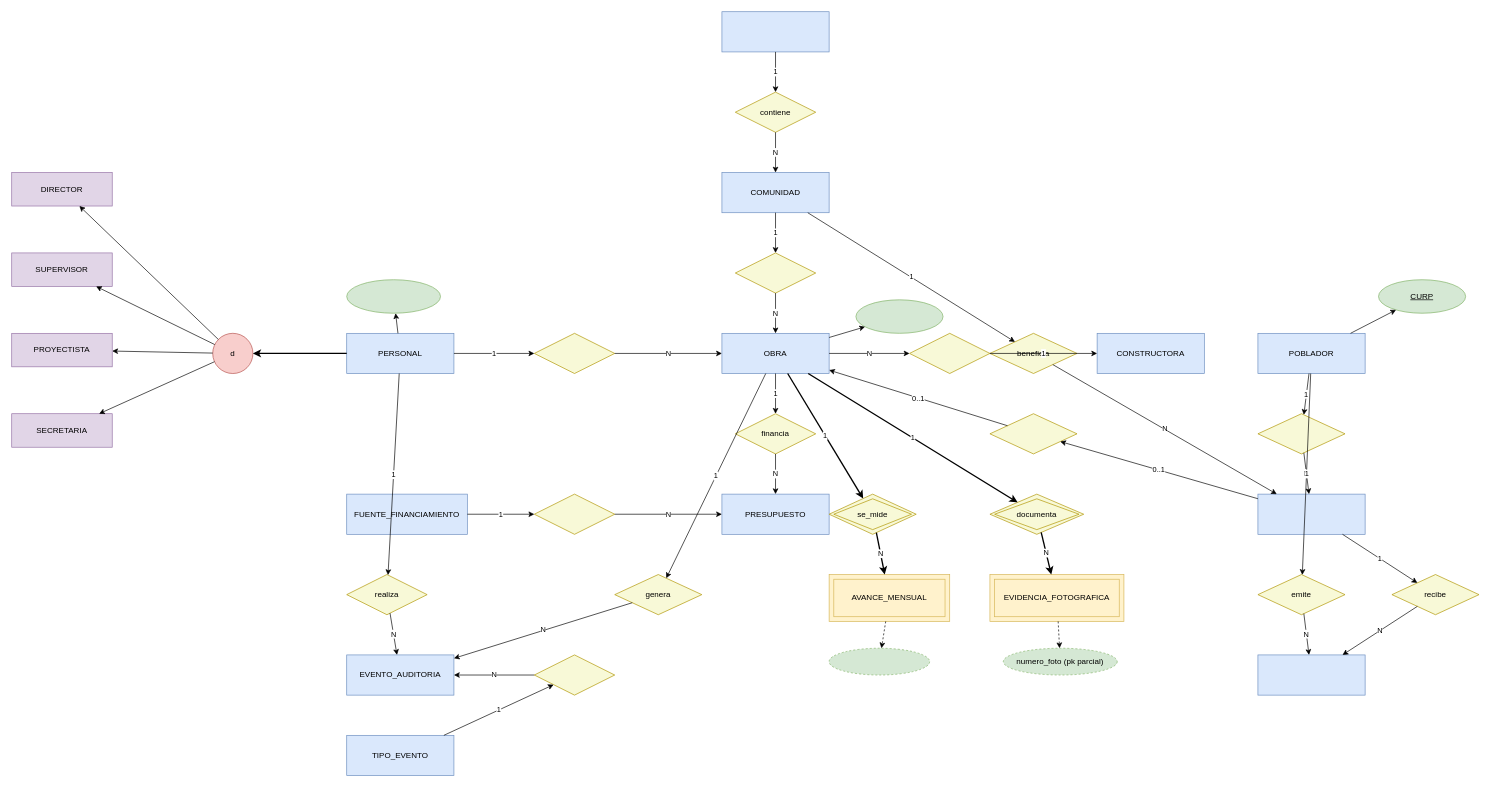
Image size: 1491x787. Some labels were removed from this diagram. The shapes that lost their labels are listed below. From the top down, each one's centre as x and y in pixels, then its label:
At point 775,31: "MUNICIPIO".
At point 775,272: "ubica".
At point 393,296: "codigo_personal".
At point 899,316: "id_obra".
At point 574,353: "supervisa".
At point 949,353: "ejecuta".
At point 1033,433: "convierte".
At point 1301,433: "presenta".
At point 574,513: "aporta".
At point 1311,513: "PROPUESTA".
At point 574,674: "clasifica".
At point 879,661: "mes (pk parcial)".
At point 1311,674: "VOTO".
